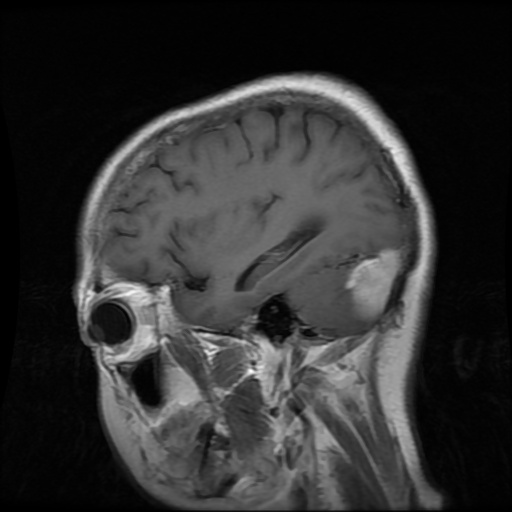meningioma: (345, 244, 409, 322)
